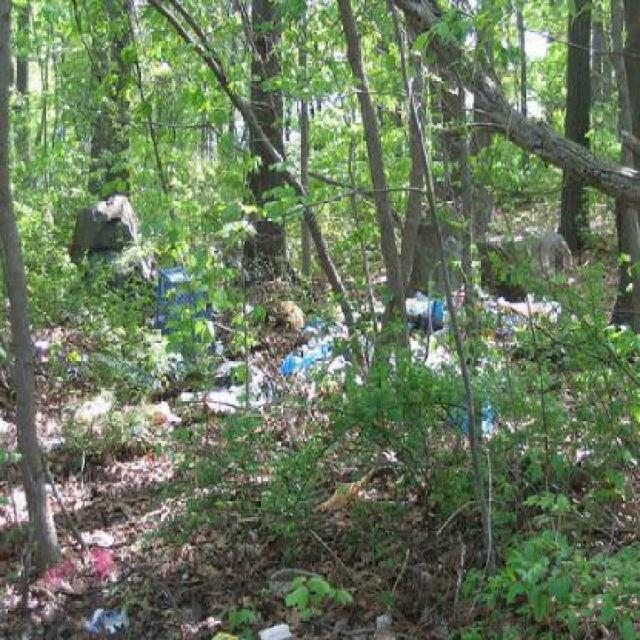garbage: (406, 277, 547, 380), (260, 275, 344, 433), (45, 523, 154, 638), (159, 273, 228, 343)
